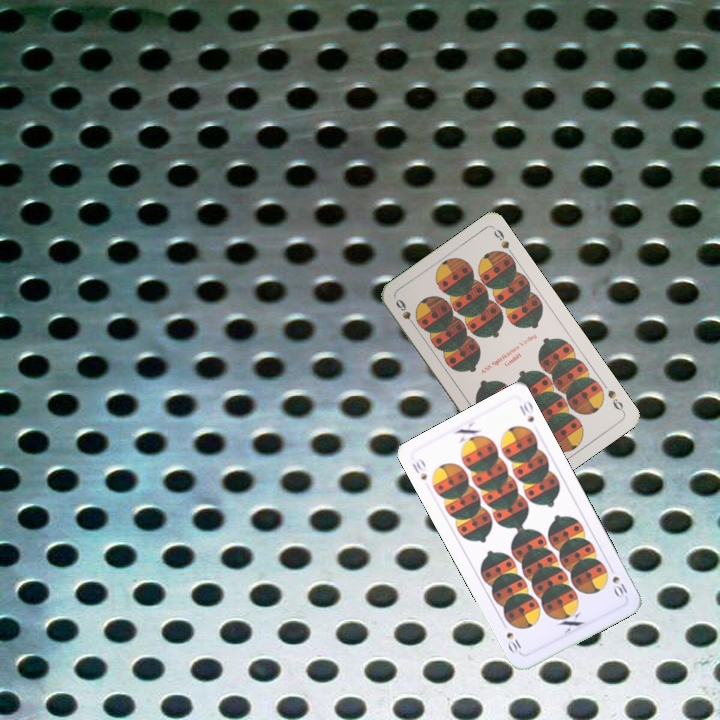S10: (601, 562, 630, 601), (408, 454, 430, 483)
S9: (391, 295, 419, 331), (603, 386, 627, 415)
